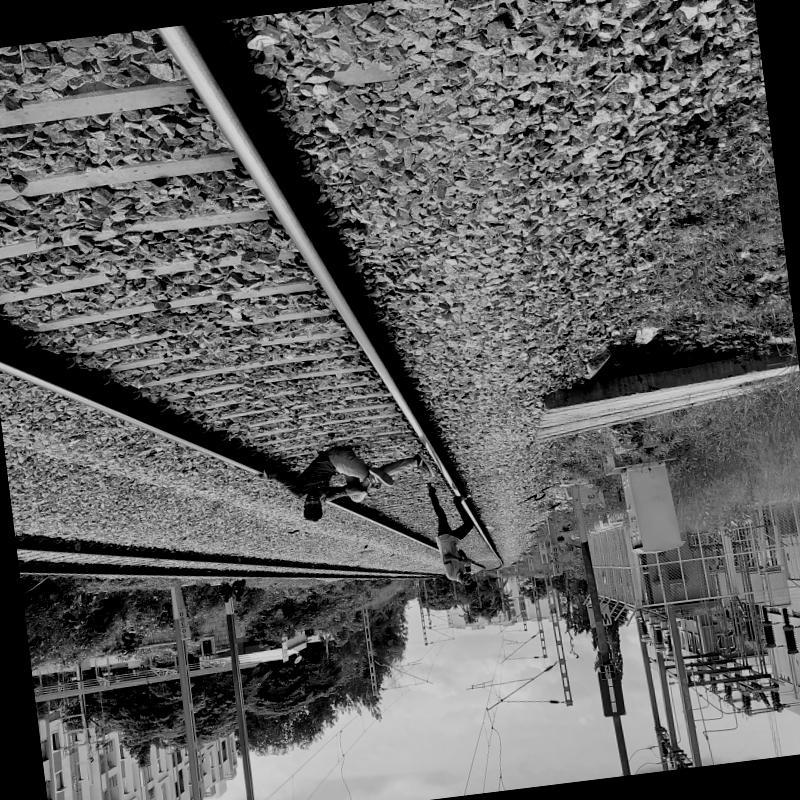sleeping: (260, 432, 446, 528)
